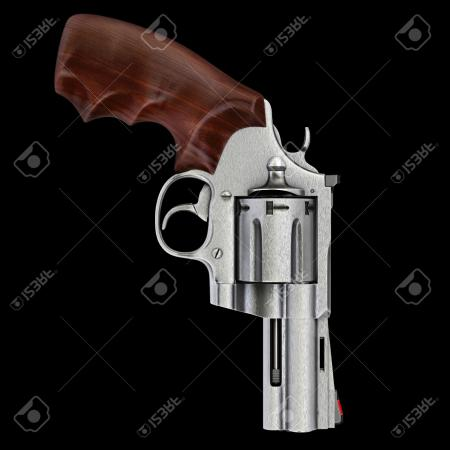Pistol: (50, 12, 350, 430)
